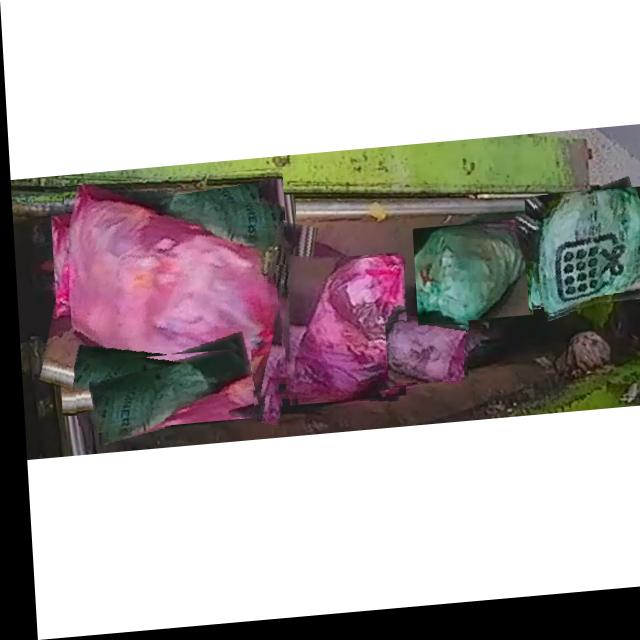general_trashbag: (91, 354, 247, 445), (535, 200, 640, 325), (411, 236, 525, 329)
other_trashbag: (66, 187, 287, 411), (284, 263, 400, 403), (382, 327, 463, 390)
